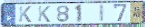1: (74, 3, 85, 24)
7: (112, 3, 130, 22)
8: (56, 4, 71, 23)
I: (99, 3, 106, 23)
K: (18, 5, 33, 23), (37, 5, 52, 23)
